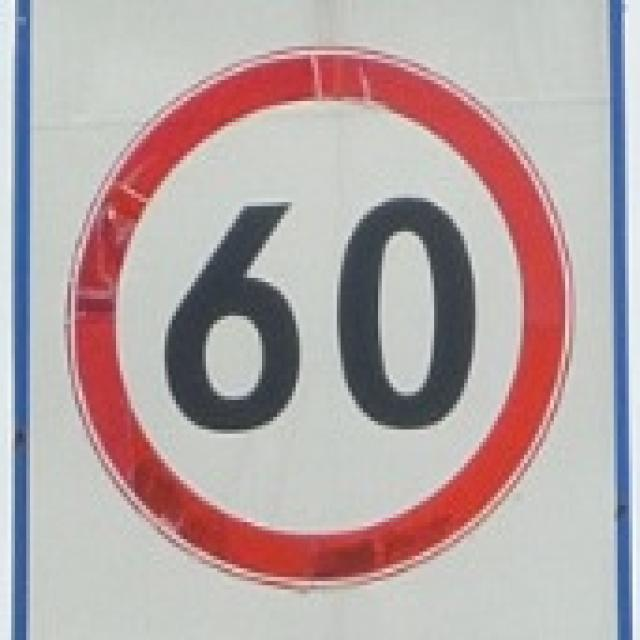Speed Limit -60-: (160, 191, 481, 437)
